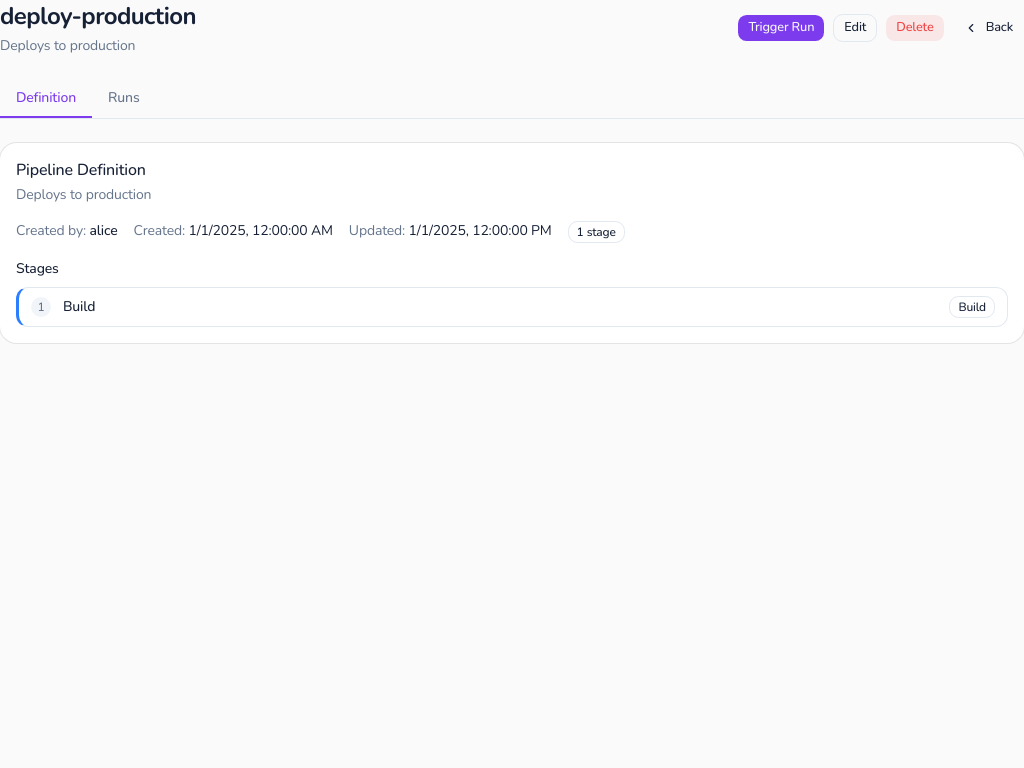
PipelineDetailClient › opens the delete confirm dialog when Delete is clicked
The image size is (1024, 768).
Click the button "Delete".
click(915, 28)  # box top-left (885, 14), bottom-right (945, 42)
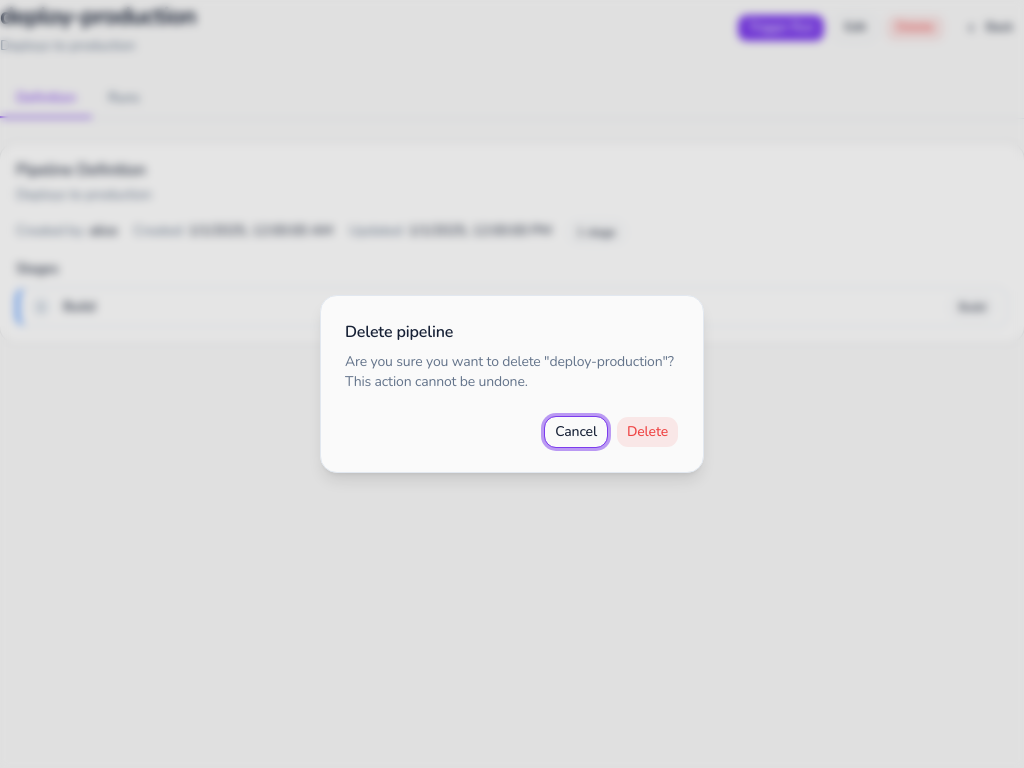
Expected: the heading "Delete pipeline" is shown, top-left (345, 321), bottom-right (453, 343)
